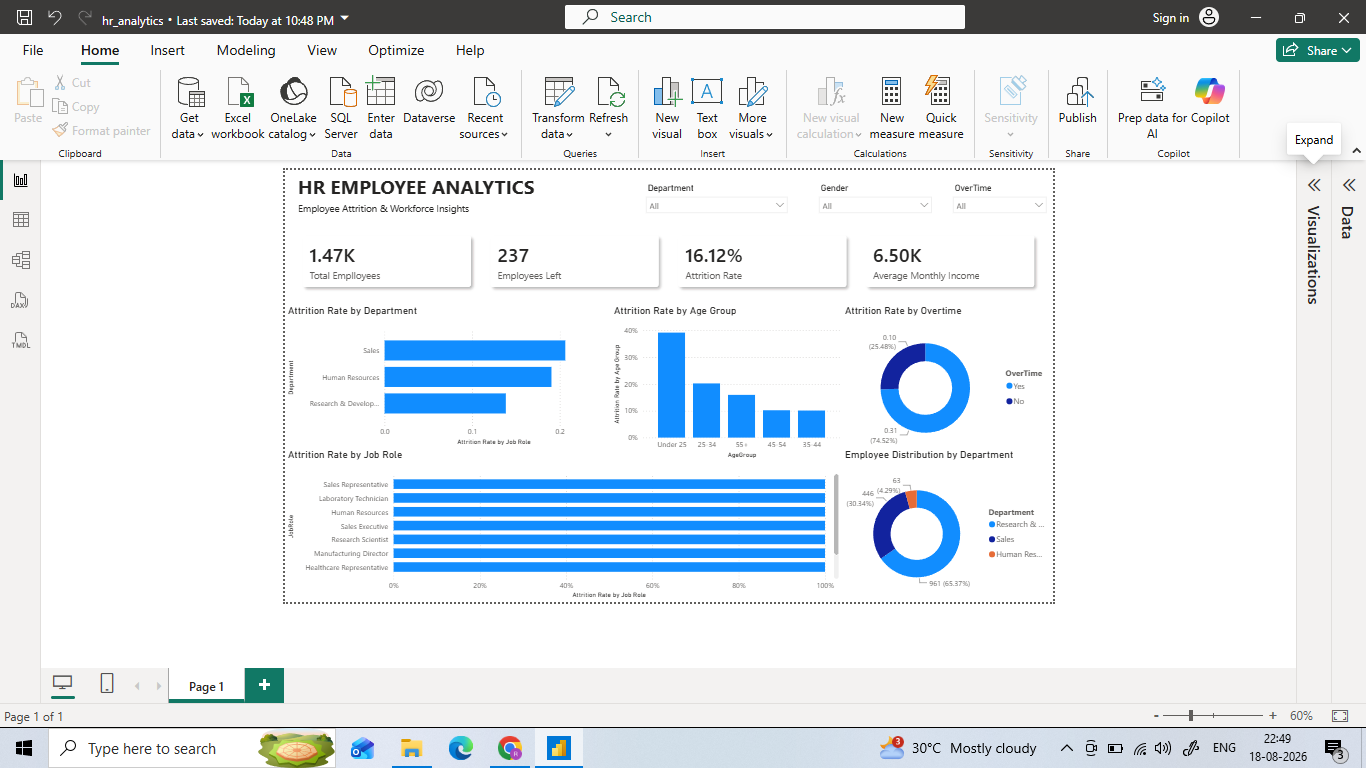

The dashboard page shown, as its layout file describes it:
{"tool":"powerbi","page":{"name":"Page 1","canvas":[1280,720],"ordinal":0},"visuals":[{"type":"cardVisual","fields":{"Data":["CountNonNull(hr_employee_cleaned.EmployeeNumber)","Sum(hr_employee_cleaned.Attrition_Flag)1","Avg(hr_employee_cleaned.Attrition_Flag)","Avg(hr_employee_cleaned.MonthlyIncome)"]},"box":[0,80,1280,144],"z":0},{"type":"clusteredBarChart","title":"Attrition Rate by Department","fields":{"Category":["hr_employee_cleaned.Department"],"Y":["Avg(hr_employee_cleaned.Attrition_Flag)"]},"box":[0,224,544,240],"z":1000},{"type":"hundredPercentStackedBarChart","title":"Attrition Rate by Job Role","fields":{"Category":["hr_employee_cleaned.JobRole"],"Y":["Avg(hr_employee_cleaned.Attrition_Flag)"]},"box":[0,464,928,256],"z":2000},{"type":"donutChart","title":"Attrition Rate by Overtime","fields":{"Category":["hr_employee_cleaned.OverTime"],"Y":["Avg(hr_employee_cleaned.Attrition_Flag)"]},"box":[928,224,356.7,250],"z":3000},{"type":"donutChart","title":"Employee Distribution by Department","fields":{"Category":["hr_employee_cleaned.Department"],"Y":["CountNonNull(hr_employee_cleaned.EmployeeNumber)"]},"box":[928,464,352,256],"z":4000},{"type":"columnChart","title":"Attrition Rate by Age Group","fields":{"Category":["hr_employee_cleaned.AgeGroup"],"Y":["Avg(hr_employee_cleaned.Attrition_Flag)"]},"box":[544,224,386.7,261.7],"z":5000},{"type":"textbox","box":[16,0,413.3,56.7],"z":6000},{"type":"textbox","box":[16,48,346.7,41.7],"z":7000},{"type":"slicer","fields":{"Values":["hr_employee_cleaned.Department"]},"box":[592,16,256,64],"z":7001},{"type":"slicer","fields":{"Values":["hr_employee_cleaned.Gender"]},"box":[880,16,208,64],"z":7002},{"type":"slicer","fields":{"Values":["hr_employee_cleaned.OverTime"]},"box":[1104,16,176,64],"z":7003}]}

Visuals, with their boxes on the page's 1280x720 design canvas (x1, y1, x2, y2). These are canvas units, not pixel positions in the 1366x768 screenshot, which may show the page scaled, cropped or inside an application window:
cardVisual - CountNonNull(hr_employee_cleaned.EmployeeNumber) x Sum(hr_employee_cleaned.Attrition_Flag)1: box=[0, 80, 1280, 224]
"Attrition Rate by Department" clusteredBarChart: box=[0, 224, 544, 464]
"Attrition Rate by Job Role" hundredPercentStackedBarChart: box=[0, 464, 928, 720]
"Attrition Rate by Overtime" donutChart: box=[928, 224, 1285, 474]
"Employee Distribution by Department" donutChart: box=[928, 464, 1280, 720]
"Attrition Rate by Age Group" columnChart: box=[544, 224, 931, 486]
textbox: box=[16, 0, 429, 57]
textbox: box=[16, 48, 363, 90]
slicer - hr_employee_cleaned.Department: box=[592, 16, 848, 80]
slicer - hr_employee_cleaned.Gender: box=[880, 16, 1088, 80]
slicer - hr_employee_cleaned.OverTime: box=[1104, 16, 1280, 80]
